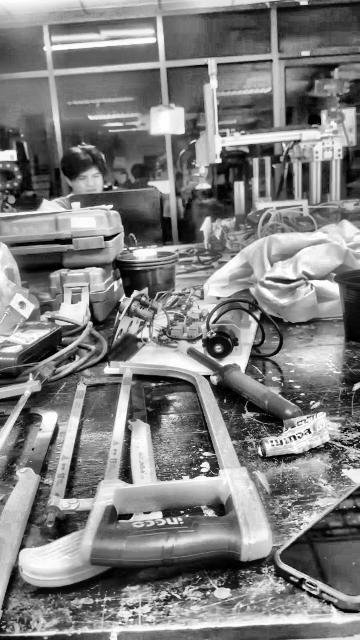pot: (335, 270, 359, 343)
